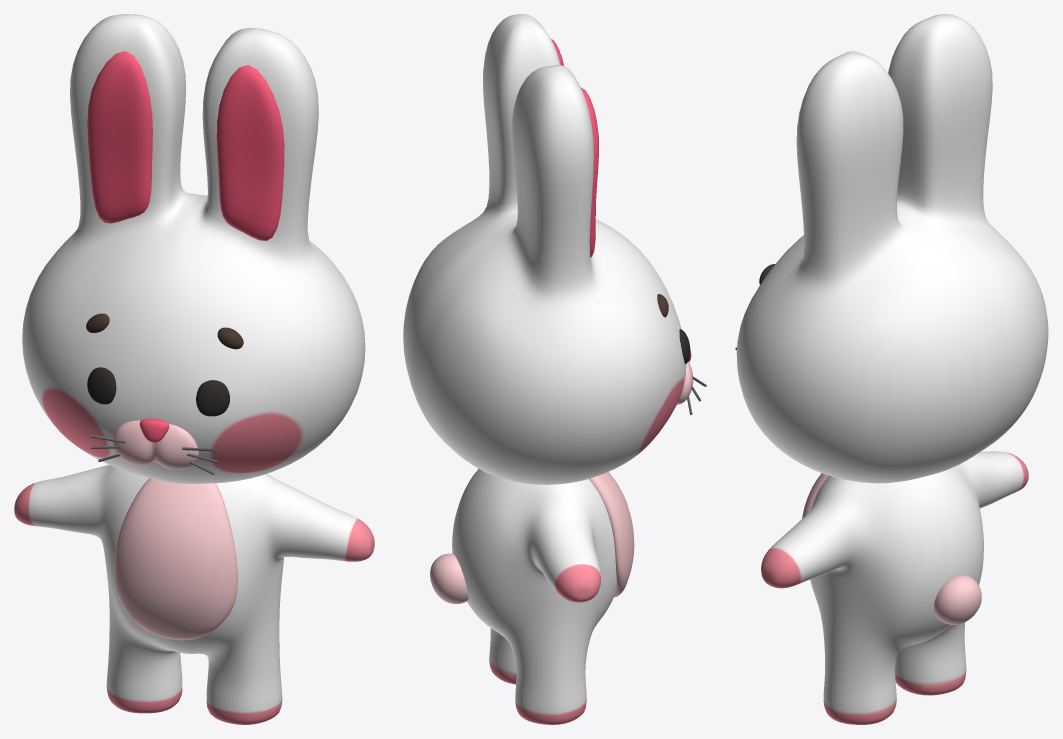
Rendered from rabbit.glb.
3 renders of one model, left to right at view 1: azimuth 30°, elevation 25°; view 2: azimuth 150°, elevation 25°; view 3: azimuth 270°, elevation 25°, orthographic. The views are drawn at different scales.
Visible parts, largest first — view 1: Head, Body, Ear 2, body 2, mouth, eyes, eyebrow, moustache; view 2: Head, Body, body 2, tail, Ear 2; view 3: Head, Body, tail.
Part boxes in pixels (bbox=[...]): Head: bbox=[22, 14, 365, 483]; Body: bbox=[14, 464, 374, 724]; Ear 2: bbox=[87, 51, 284, 240]; body 2: bbox=[114, 478, 237, 640]; mouth: bbox=[112, 420, 198, 469]; eyes: bbox=[87, 367, 229, 416]; eyebrow: bbox=[86, 313, 243, 349]; moustache: bbox=[90, 434, 217, 474]; Head: bbox=[403, 14, 686, 484]; Body: bbox=[452, 468, 616, 724]; body 2: bbox=[589, 472, 634, 597]; tail: bbox=[430, 553, 468, 603]; Ear 2: bbox=[551, 39, 598, 257]; Head: bbox=[736, 14, 1048, 483]; Body: bbox=[761, 451, 1028, 724]; tail: bbox=[934, 574, 981, 624].
Bounding box in the file's own units: 1.74 × 4.09 × 1.75.
Materials: 8 (4 with a texture image).
